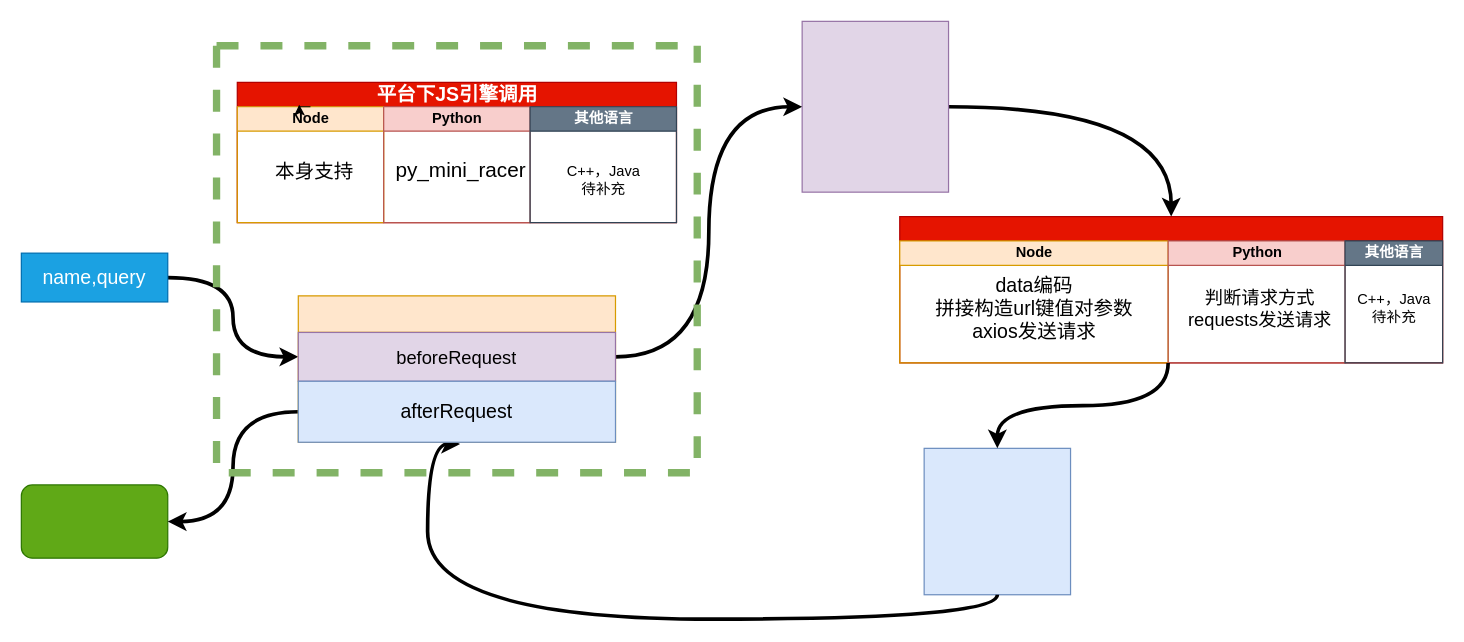
The diagram is 1464 pixels wide and 642 high, and some of its shapes have lost their labels. The box of each missing label's shape, as (x1, y1, x2, y2) in pixels:
NeteaseCloudMusicApi.js: (297, 295, 615, 442)
status data headers crypto apiName: (923, 447, 1071, 595)
url headers data method crypto apiName: (801, 20, 949, 192)
发送网络请求（SDK实现）: (899, 215, 1443, 363)
最终请求数据: (20, 484, 168, 558)
